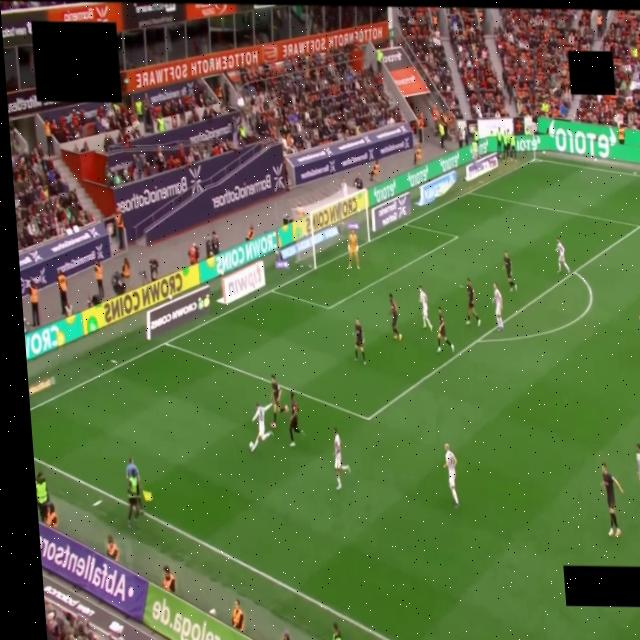ball: (249, 442, 253, 450)
player: (601, 463, 623, 536), (249, 403, 272, 451), (333, 427, 349, 490), (443, 444, 458, 507), (270, 375, 286, 428), (288, 392, 302, 447), (437, 307, 453, 352), (465, 279, 480, 326), (389, 293, 402, 341), (418, 286, 431, 331), (353, 318, 365, 364), (492, 283, 503, 330), (503, 251, 516, 290), (556, 237, 570, 273), (348, 230, 358, 268), (503, 130, 509, 160), (636, 444, 639, 481)
referee: (638, 315, 640, 363)
